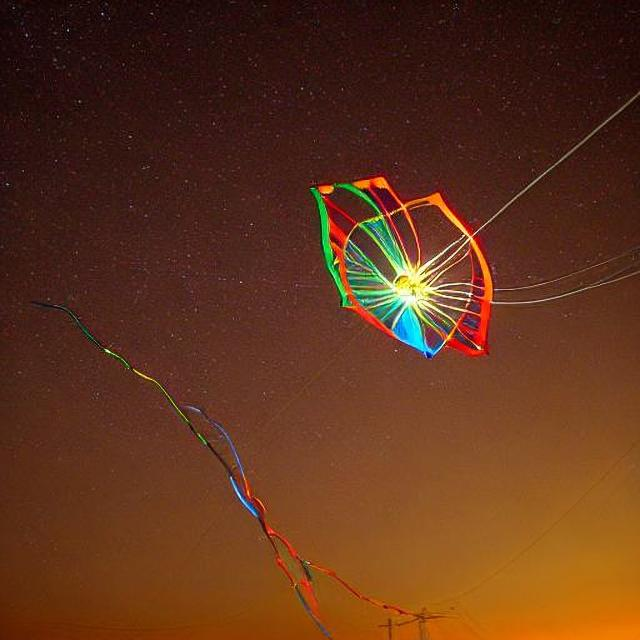floating object: (306, 172, 495, 359)
